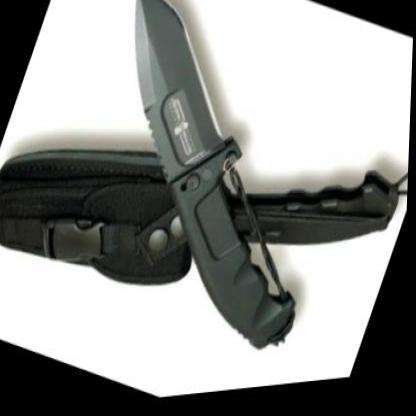knife: (73, 0, 282, 227)
